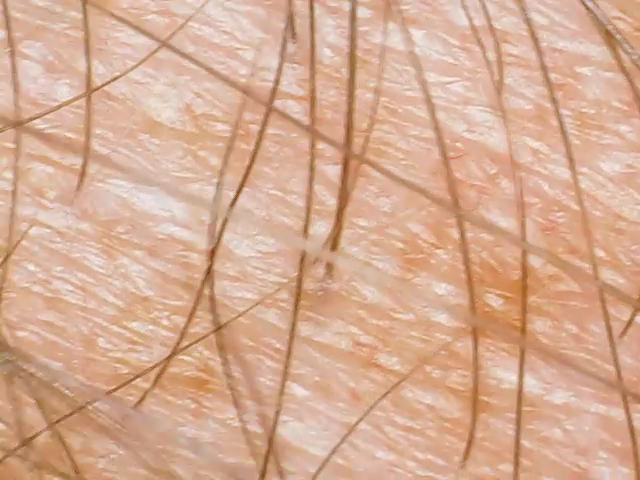folicle: (448, 451, 475, 477), (120, 401, 147, 422), (320, 266, 344, 289), (488, 83, 511, 106), (611, 326, 631, 349), (69, 183, 90, 202), (285, 33, 305, 52)
